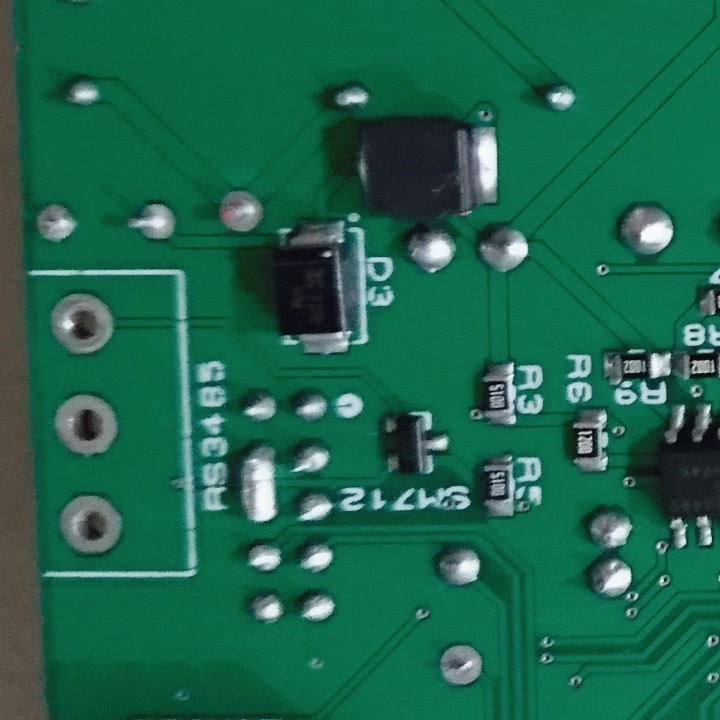F: (53, 489, 126, 560), (48, 390, 120, 460), (49, 289, 116, 360), (211, 187, 264, 238), (124, 198, 177, 246), (436, 641, 487, 689), (30, 200, 79, 243)
P: (235, 437, 281, 528)
